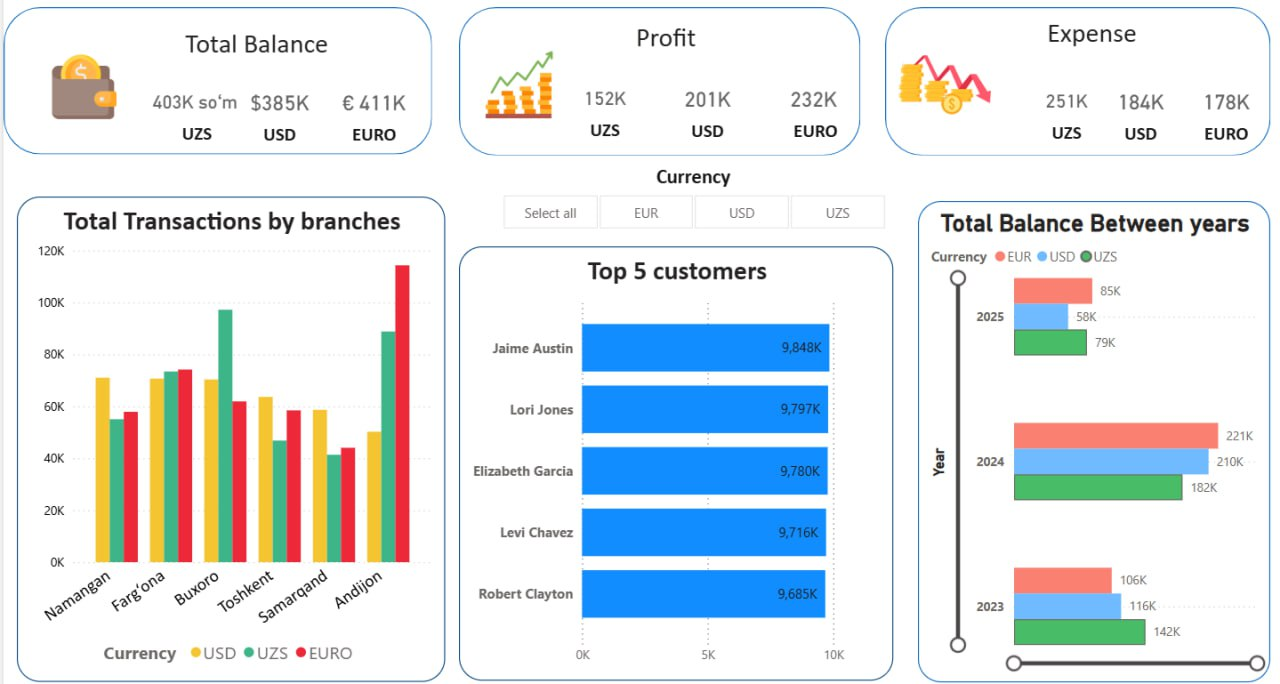

The dashboard page shown, as its layout file describes it:
{"tool":"powerbi","page":{"name":"Assignment 1 ","canvas":[1280,720],"ordinal":0},"visuals":[{"type":"shape","box":[0,16,428.2,147.2],"z":0},{"type":"shape","box":[455.2,16,401.2,148.5],"z":1000},{"type":"shape","box":[881,16,385.3,148.5],"z":2000},{"type":"textbox","box":[166.9,30.7,171.8,47.9],"z":3000},{"type":"image","box":[39.3,55.2,82.2,81],"z":4000},{"type":"textbox","box":[593.9,24.5,136.2,60.1],"z":5000},{"type":"card","title":"Umumiy summa ","fields":{"Values":["Bank_transactions.Profit USD"]},"box":[640.5,78.5,125.2,82.2],"z":6000},{"type":"card","title":"Umumiy summa ","fields":{"Values":["Bank_transactions.Profit UZS"]},"box":[539.9,78.5,122.7,82.2],"z":7000},{"type":"card","title":"Umumiy summa ","fields":{"Values":["Bank_transactions.Profit EUR"]},"box":[750.9,78.5,116.6,82.2],"z":8000},{"type":"image","box":[473.6,55.2,83.4,77.3],"z":9000},{"type":"image","box":[889.6,55.2,101.8,77.3],"z":10000},{"type":"card","title":"Umumiy summa ","fields":{"Values":["Bank_transactions.Expenses USD"]},"box":[1073.6,81,125.2,82.2],"z":11000},{"type":"card","title":"Umumiy summa ","fields":{"Values":["Bank_transactions.Expenses UZS"]},"box":[1001.2,81,122.7,82.2],"z":12000},{"type":"card","title":"Umumiy summa ","fields":{"Values":["Bank_transactions.Expenses EUR"]},"box":[1163.2,81,116.6,82.2],"z":13000},{"type":"textbox","box":[1019.6,20.9,136.2,46.6],"z":14000},{"type":"clusteredColumnChart","title":"Total Transactions by branches","fields":{"Category":["Bank_transactions.Branch"],"Y":["Bank_transactions.branch usd","Bank_transactions.branch uzs","Bank_transactions.branch euro"]},"box":[13.5,204.9,428.2,484.7],"z":15000},{"type":"clusteredBarChart","title":"Total Balance Between years ","fields":{"Category":["Bank_transactions.TransactionDate.Variation.Date Hierarchy.Year"],"Series":["Bank_transactions.Currency"],"Y":["Sum(Bank_transactions.Amount)"]},"box":[914.1,209.8,352.1,481],"z":16000},{"type":"clusteredBarChart","title":"Top 5 customers ","fields":{"Category":["Bank_transactions.CustomerName"],"Y":["Bank_transactions.Top customer"]},"box":[455.2,255.2,434.4,434.4],"z":17000},{"type":"slicer","title":"Currency ","fields":{"Values":["Bank_transactions.Currency"]},"box":[473.6,173,430.7,71.2],"z":18000},{"type":"card","title":"Umumiy summa ","fields":{"Values":["Sum(Bank_transactions.USD)"]},"box":[213.5,82.2,125.2,82.2],"z":19000},{"type":"card","title":"Umumiy summa ","fields":{"Values":["Sum(Bank_transactions.UZS)"]},"box":[130.1,82.2,122.7,82.2],"z":20000},{"type":"card","title":"Umumiy summa ","fields":{"Values":["Sum(Bank_transactions.EUR)"]},"box":[311.7,82.2,116.6,82.2],"z":21000}]}

Visuals, with their boxes on the page's 1280x720 design canvas (x1, y1, x2, y2). These are canvas units, not pixel positions in the 1280x684 screenshot, which may show the page scaled, cropped or inside an application window:
shape: bbox(0, 16, 428, 163)
shape: bbox(455, 16, 856, 164)
shape: bbox(881, 16, 1266, 164)
textbox: bbox(167, 31, 339, 79)
image: bbox(39, 55, 122, 136)
textbox: bbox(594, 24, 730, 85)
"Umumiy summa " card: bbox(640, 78, 766, 161)
"Umumiy summa " card: bbox(540, 78, 663, 161)
"Umumiy summa " card: bbox(751, 78, 868, 161)
image: bbox(474, 55, 557, 132)
image: bbox(890, 55, 991, 132)
"Umumiy summa " card: bbox(1074, 81, 1199, 163)
"Umumiy summa " card: bbox(1001, 81, 1124, 163)
"Umumiy summa " card: bbox(1163, 81, 1280, 163)
textbox: bbox(1020, 21, 1156, 68)
"Total Transactions by branches" clusteredColumnChart: bbox(14, 205, 442, 690)
"Total Balance Between years " clusteredBarChart: bbox(914, 210, 1266, 691)
"Top 5 customers " clusteredBarChart: bbox(455, 255, 890, 690)
"Currency " slicer: bbox(474, 173, 904, 244)
"Umumiy summa " card: bbox(214, 82, 339, 164)
"Umumiy summa " card: bbox(130, 82, 253, 164)
"Umumiy summa " card: bbox(312, 82, 428, 164)
